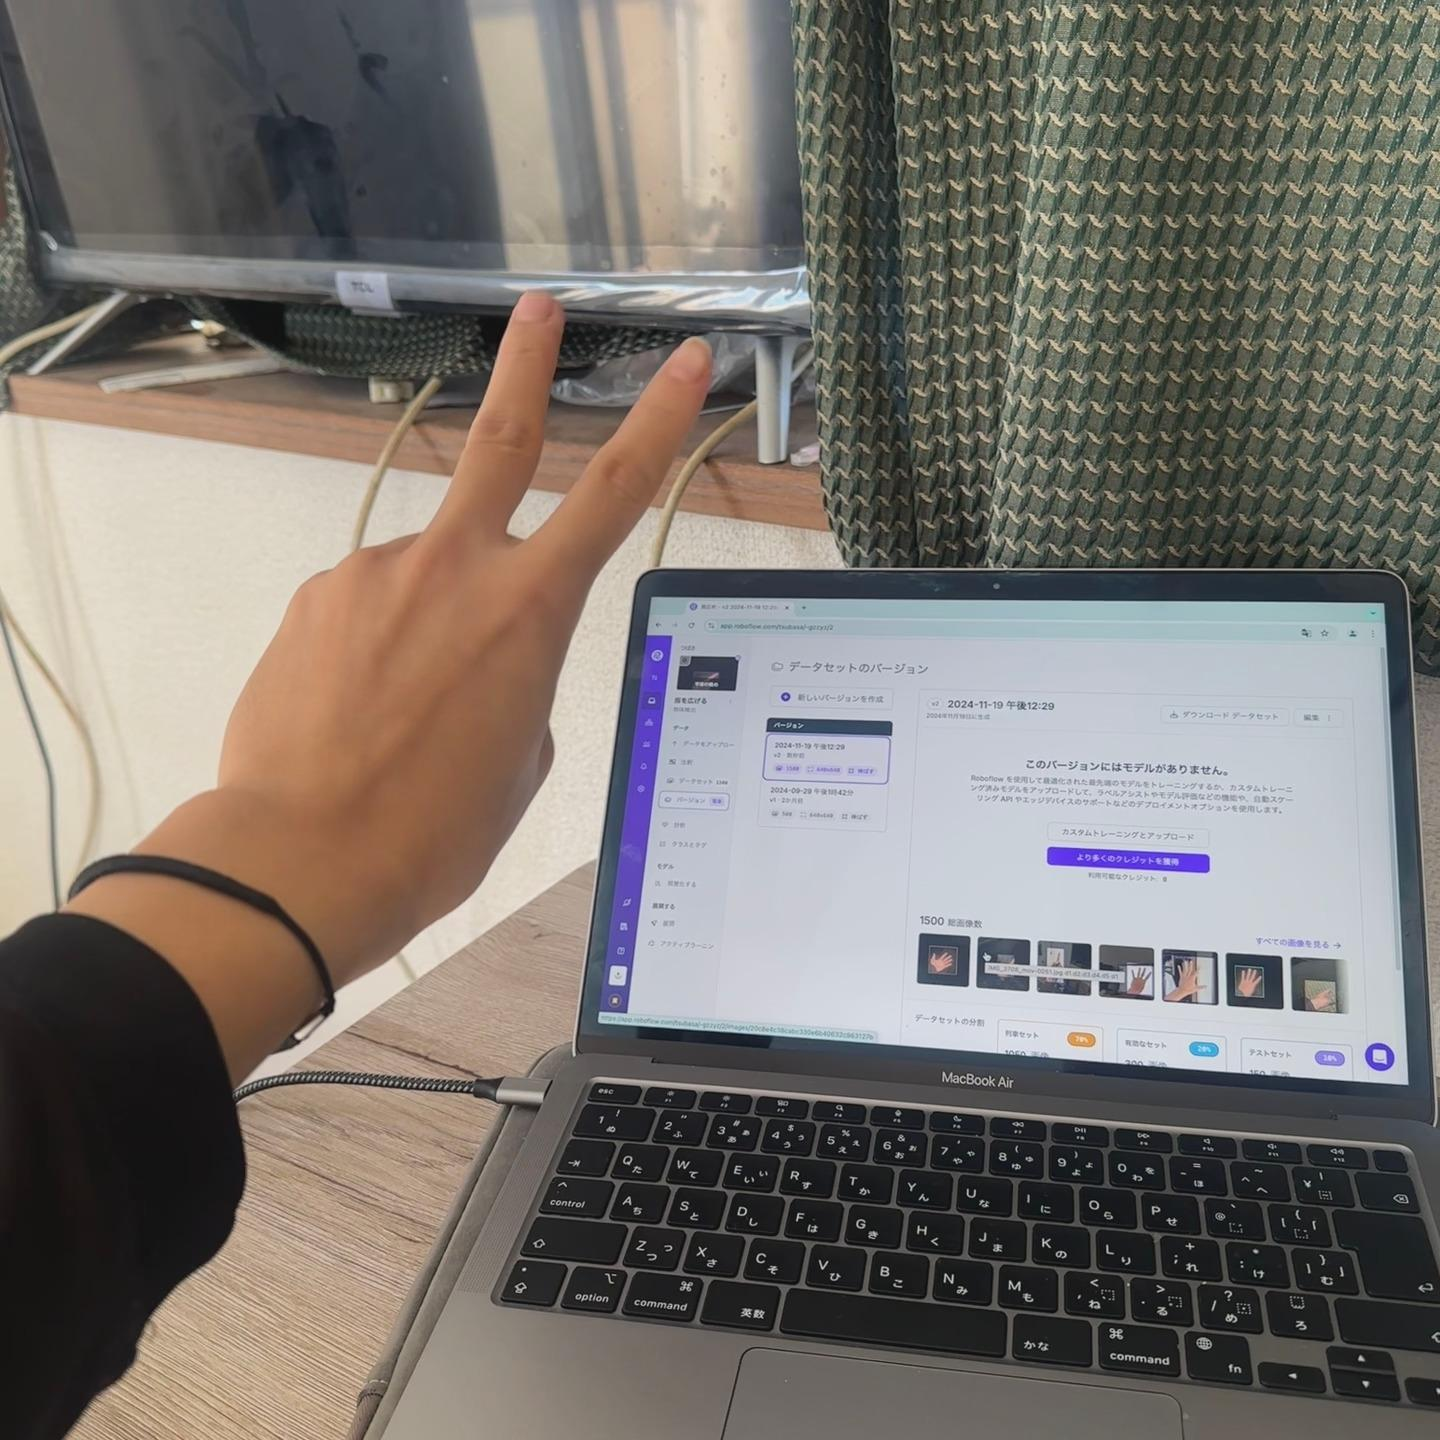without_gloves: (170, 167, 787, 915)
